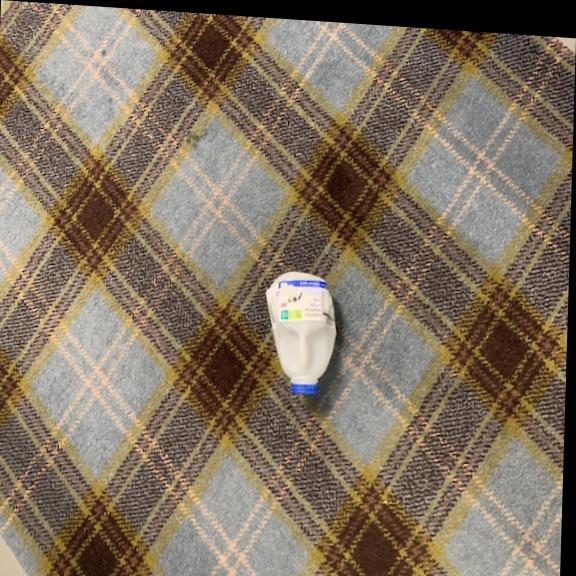Plastik: (257, 267, 342, 398)
